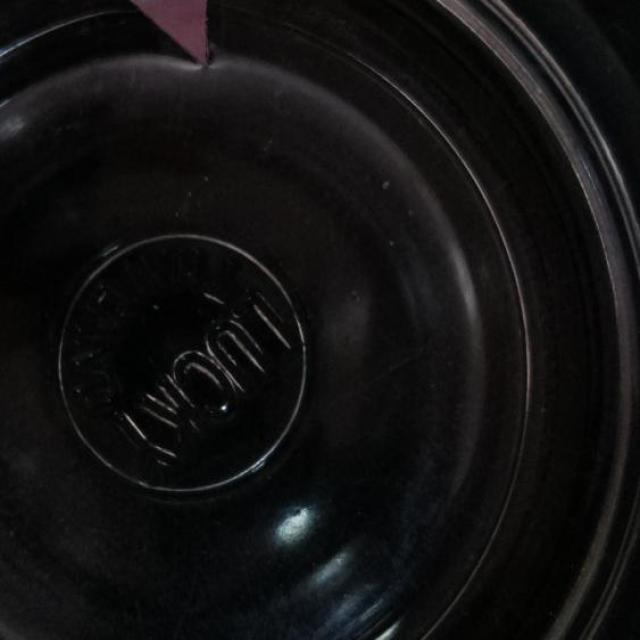fiber: (125, 0, 208, 65)
